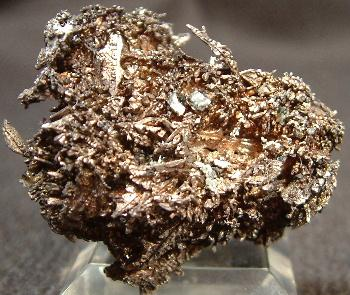silver: (3, 5, 345, 294)
